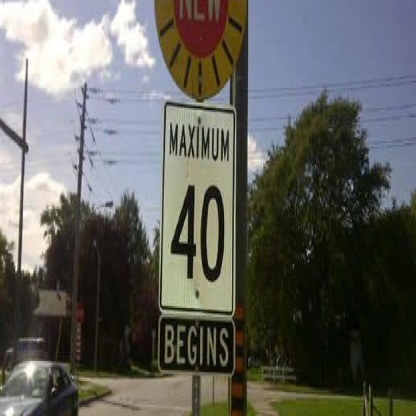limit1: (159, 100, 239, 316)
